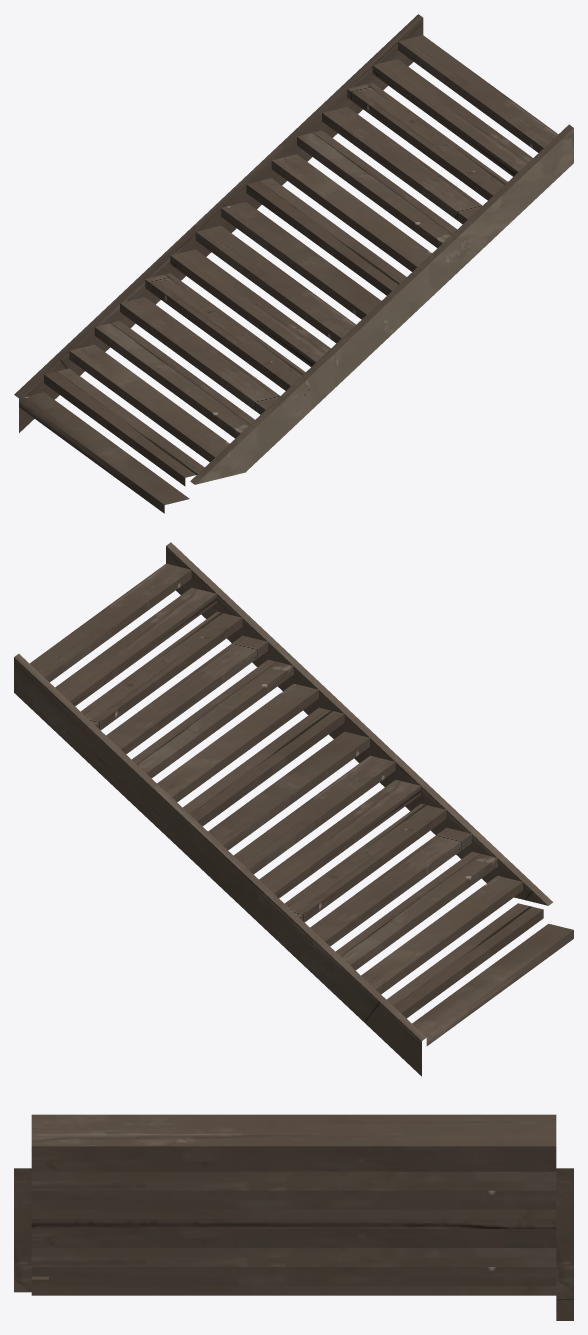
3 renders of one model, top to bottom at view 1: azimuth 30°, elevation 25°; view 2: azimuth 150°, elevation 25°; view 3: azimuth 270°, elevation 25°, orthographic. The views are drawn at different scales.
Visible parts, largest first — view 1: body0_model0_lod0_mesh0, body0_model0_lod0_mesh1; view 2: body0_model0_lod0_mesh0; view 3: body0_model0_lod0_mesh0.
Boxes of the visible parts, box(x1,y1,x2,y2) form: body0_model0_lod0_mesh0: box(14, 14, 573, 513); body0_model0_lod0_mesh1: box(195, 128, 573, 484); body0_model0_lod0_mesh0: box(14, 542, 573, 1076); body0_model0_lod0_mesh0: box(14, 1114, 573, 1320).
Bounding box in the file's own units: 192 × 144 × 128.
2 materials, 2 textured.
